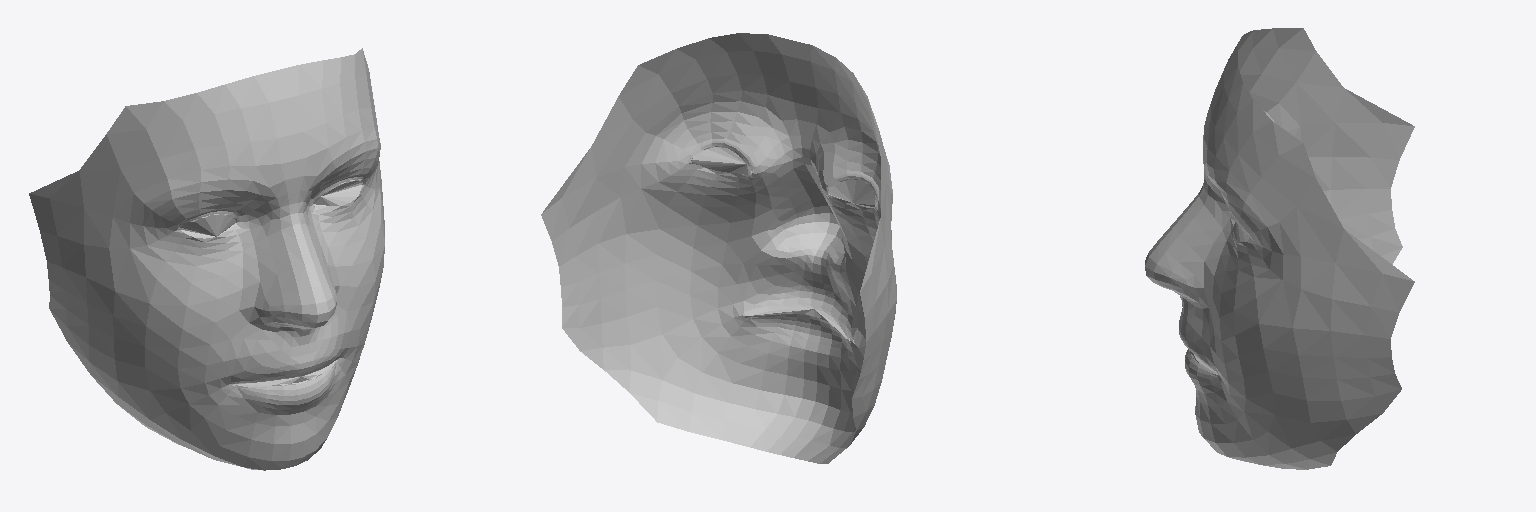
The model's file is mask.obj.
The picture shows the model from 3 angles: view 1: azimuth 30°, elevation 25°; view 2: azimuth 150°, elevation 25°; view 3: azimuth 270°, elevation 25°; orthographic projection.
Visible parts, largest first — view 1: reference-quad-truncated-cleaned-rebuild-tr.001; view 2: reference-quad-truncated-cleaned-rebuild-tr.001; view 3: reference-quad-truncated-cleaned-rebuild-tr.001.
Part boxes in pixels (left/top/right/bottom): reference-quad-truncated-cleaned-rebuild-tr.001: left=29, top=48, right=384, bottom=470; reference-quad-truncated-cleaned-rebuild-tr.001: left=541, top=33, right=896, bottom=463; reference-quad-truncated-cleaned-rebuild-tr.001: left=1145, top=28, right=1414, bottom=469.
Bounding box in the file's own units: 17.06 × 20.57 × 12.53.